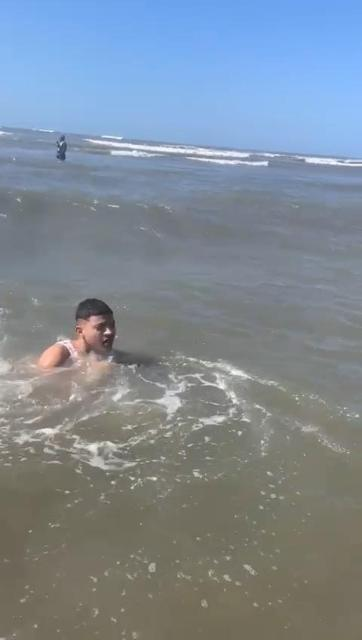drowning: (8, 266, 118, 408)
